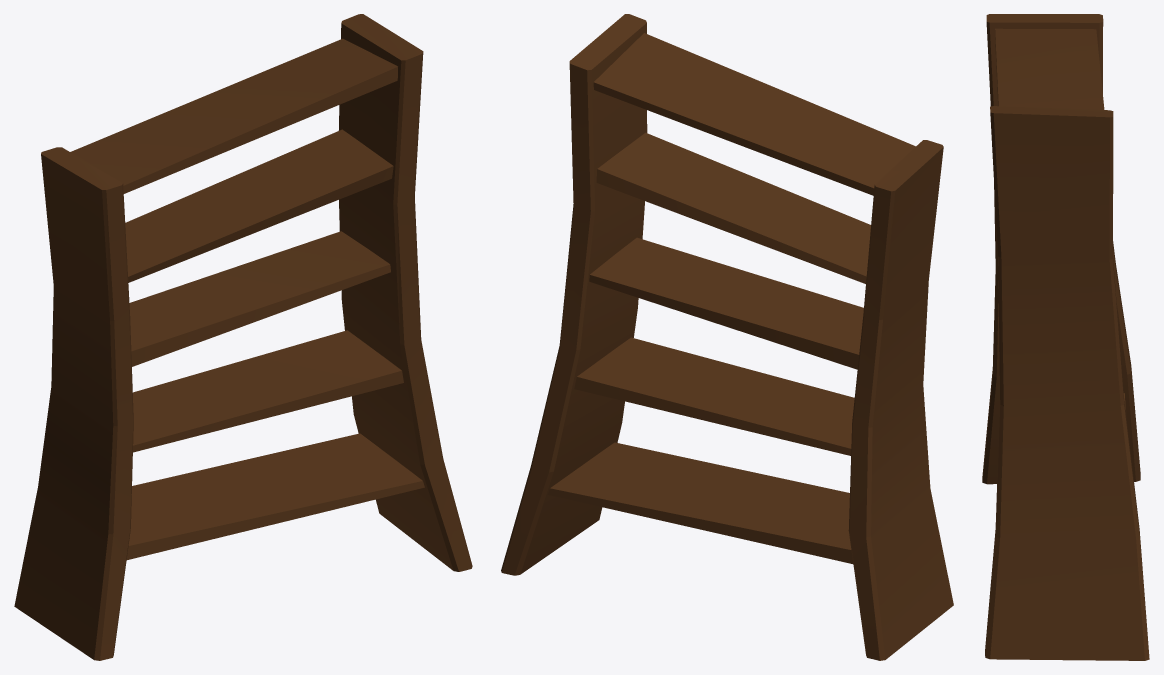
The model's file is BookShelf.FBX.
3 views of the same model, side by side, from view 1: azimuth 30°, elevation 25°; view 2: azimuth 150°, elevation 25°; view 3: azimuth 270°, elevation 25° (orthographic). The views are drawn at different scales.
Visible parts, largest first — view 1: BookShelf; view 2: BookShelf; view 3: BookShelf.
Part boxes in pixels (<box>): BookShelf: <box>14,14,472,660</box>; BookShelf: <box>501,14,953,660</box>; BookShelf: <box>982,14,1149,660</box>.
Bounding box in the file's own units: 136 × 176 × 50.98.
